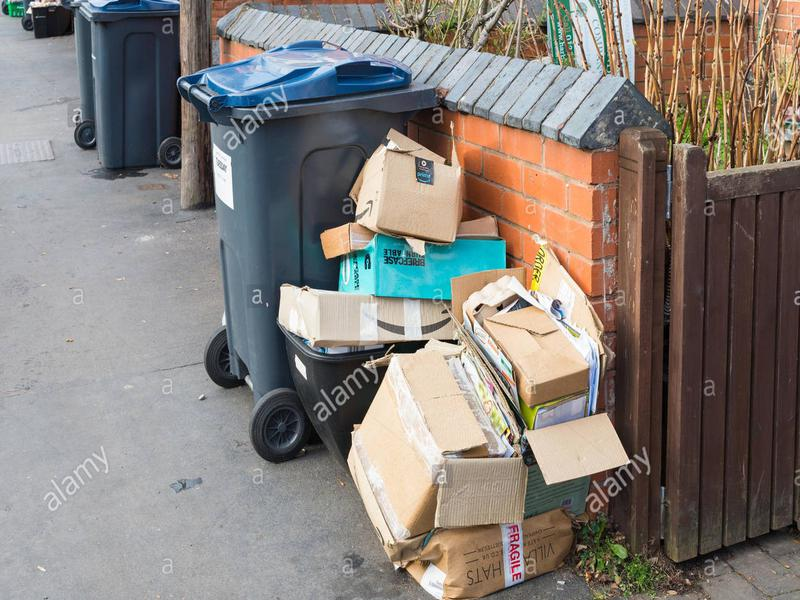cardboard: (443, 242, 637, 487), (327, 345, 487, 564), (380, 504, 579, 600), (346, 118, 469, 245), (319, 226, 517, 301), (267, 284, 460, 346)
